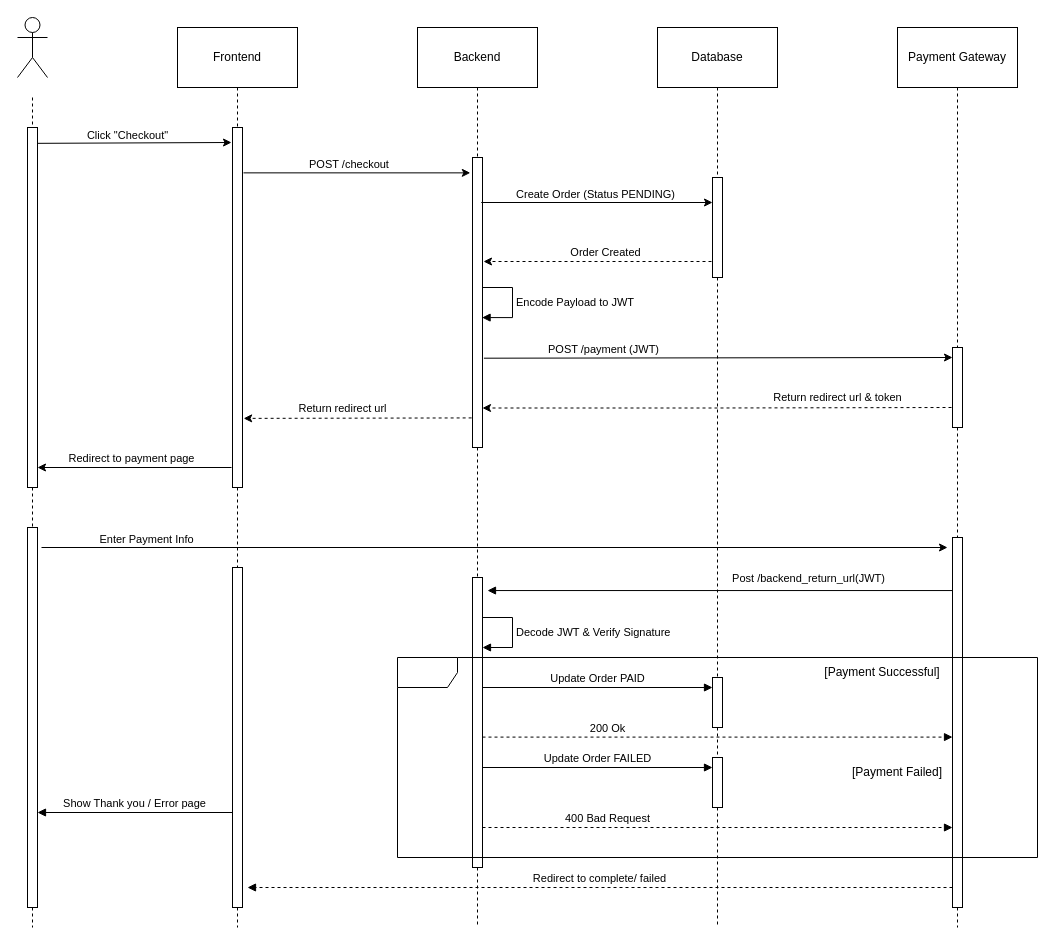
The diagram is 1055 pixels wide and 946 high, and some of its shapes have lost their labels. The shapes that lost their labels are listed below. From the top down, each one's box as (x1, y1, x2, y2) in pixels, then its label:
(16, 16, 48, 78): User
(396, 656, 1038, 858): alt
